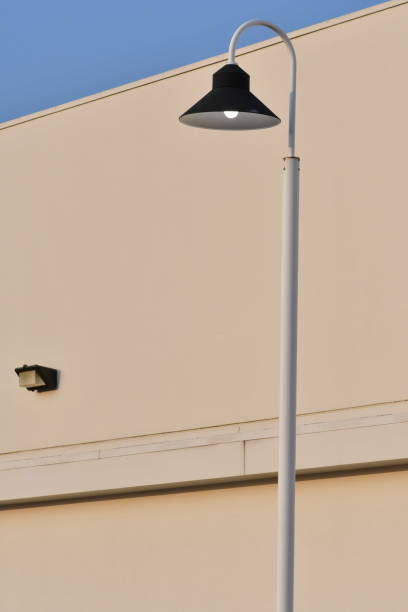light_pole: (269, 147, 303, 608)
